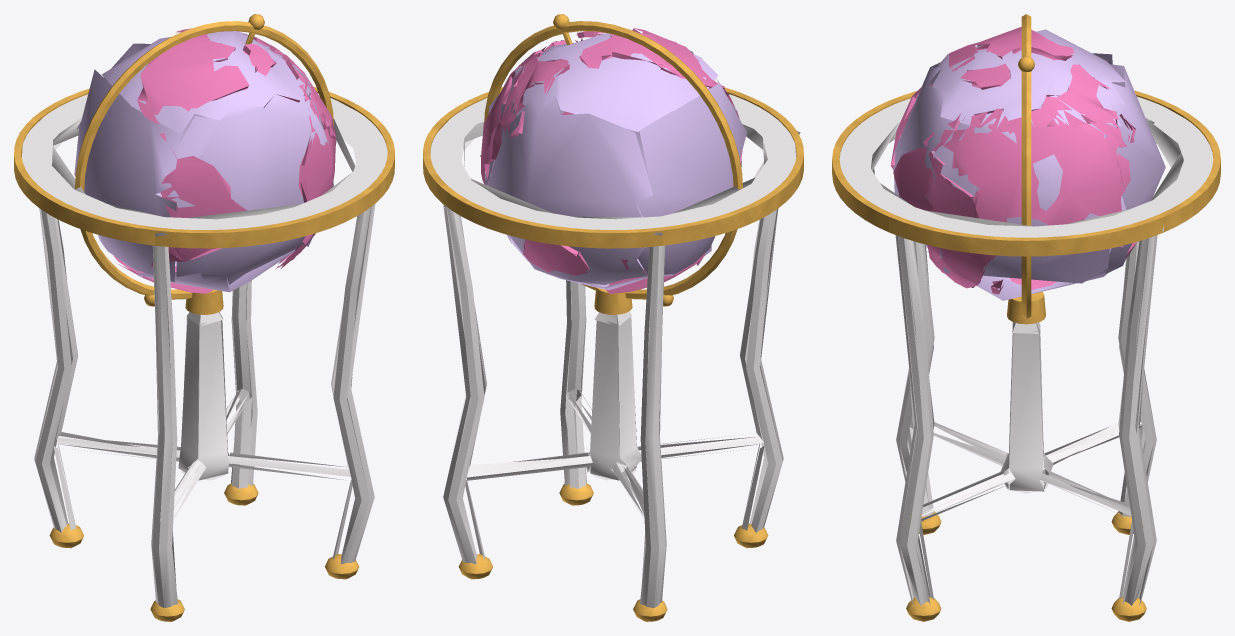
The model's file is dun_globe.glb.
3 renders of one model, left to right at view 1: azimuth 30°, elevation 25°; view 2: azimuth 150°, elevation 25°; view 3: azimuth 270°, elevation 25°, orthographic.
Parts seen in each view (by area): view 1: dun_globe; view 2: dun_globe; view 3: dun_globe.
Part boxes in pixels (x1,y1,x2,y2): dun_globe: [14, 14, 394, 621]; dun_globe: [423, 14, 803, 621]; dun_globe: [832, 14, 1220, 621].
Size of the model in its own units: 0.99 by 1.54 by 0.99.
Materials: 4 (1 with a texture image).
